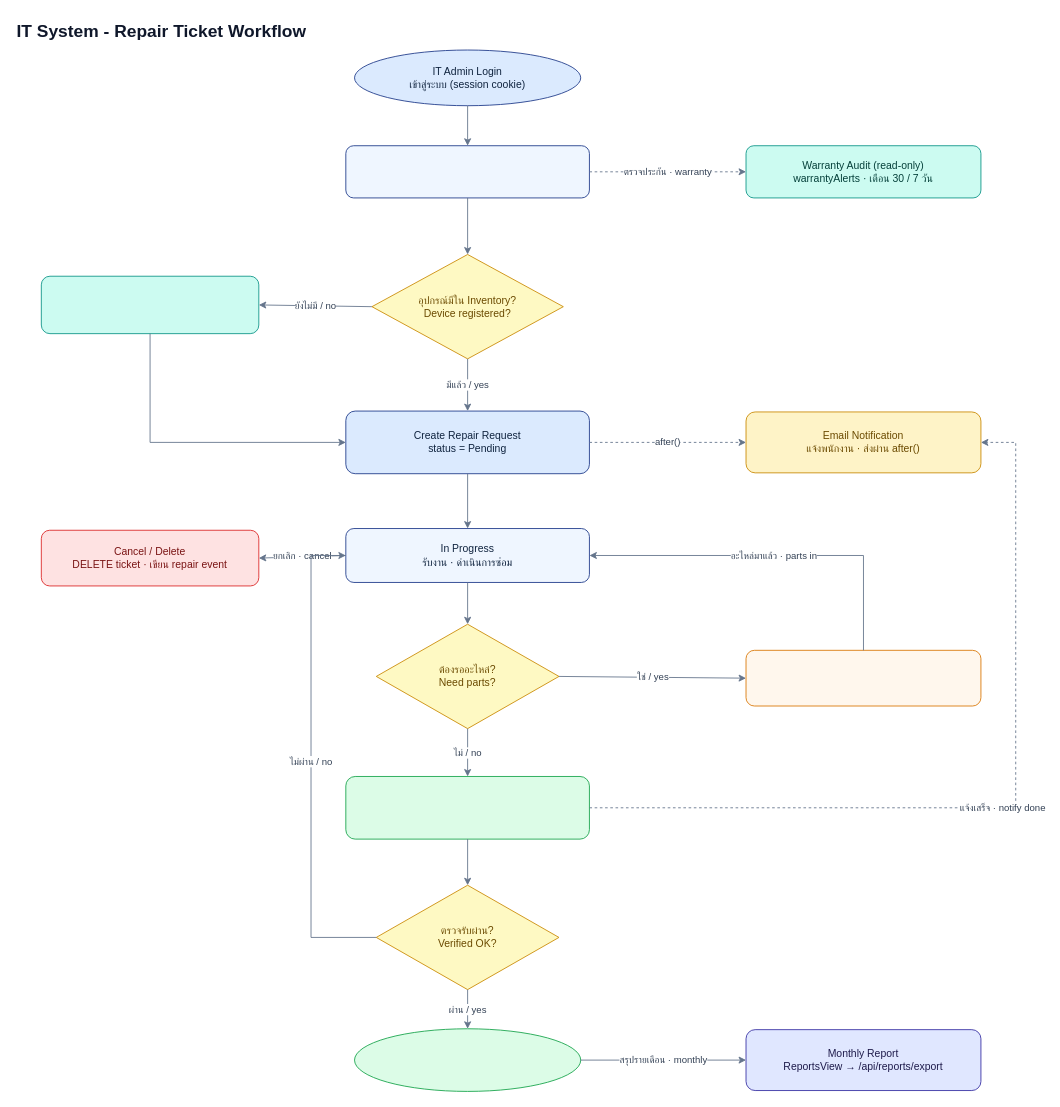
Image size: 1060x1107. Some labels were removed from this diagram. Here are the shapes that lost their labels. From the top down, the centre of each, then its label:
(467,171): Dashboard ภาพรวม devices + tickets
(149,304): Add New Device AddDeviceForm → POST /api/devices
(863,677): Waiting for Parts รออะไหล่
(467,807): Completed set completedAt · แจ้งผู้ใช้
(467,1059): Closed ปิดงานซ่อม
